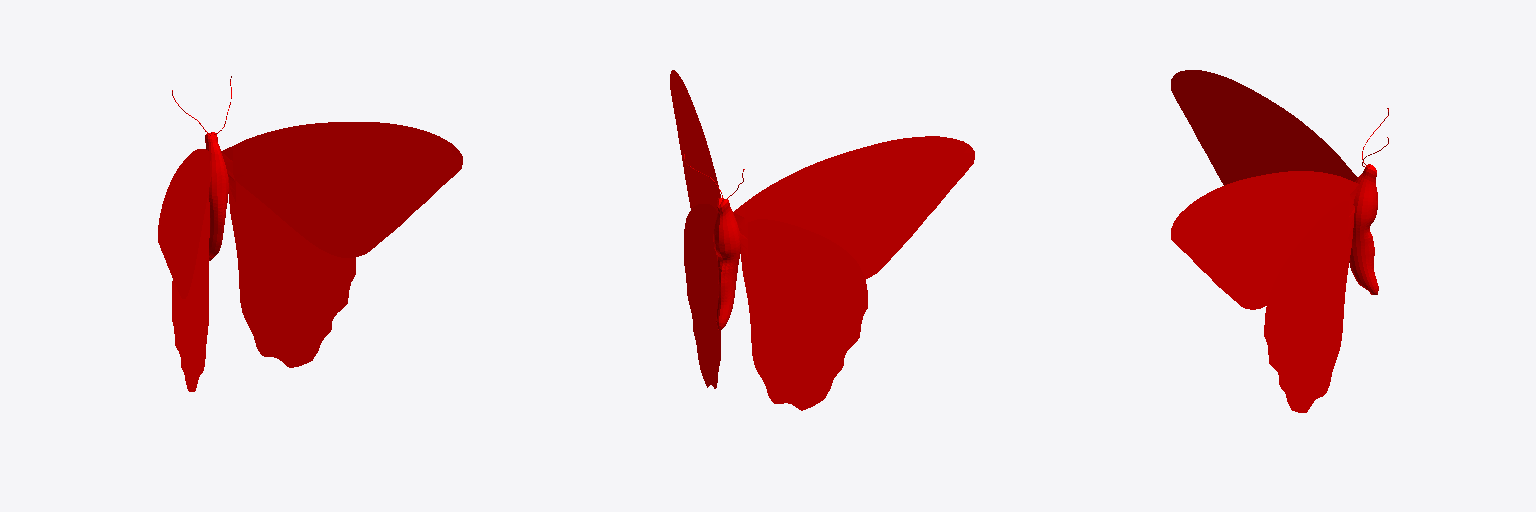
3 views of the same model, side by side, from view 1: azimuth 30°, elevation 25°; view 2: azimuth 150°, elevation 25°; view 3: azimuth 270°, elevation 25° (orthographic).
Visible parts, largest first — view 1: topWings polySurface21, bottomWings polySurface21, body polySurface21; view 2: bottomWings polySurface21, topWings polySurface21, body polySurface21; view 3: topWings polySurface21, bottomWings polySurface21, body polySurface21.
Part boxes in pixels (left/top/right/bottom): topWings polySurface21: left=158, top=122, right=462, bottom=298; bottomWings polySurface21: left=172, top=174, right=355, bottom=391; body polySurface21: left=172, top=76, right=231, bottom=260; bottomWings polySurface21: left=684, top=204, right=867, bottom=410; topWings polySurface21: left=670, top=70, right=974, bottom=278; body polySurface21: left=684, top=154, right=744, bottom=330; topWings polySurface21: left=1171, top=70, right=1358, bottom=309; bottomWings polySurface21: left=1264, top=201, right=1354, bottom=412; body polySurface21: left=1349, top=108, right=1388, bottom=294.
Size of the model in its own units: 19.84 by 16.6 by 12.28.